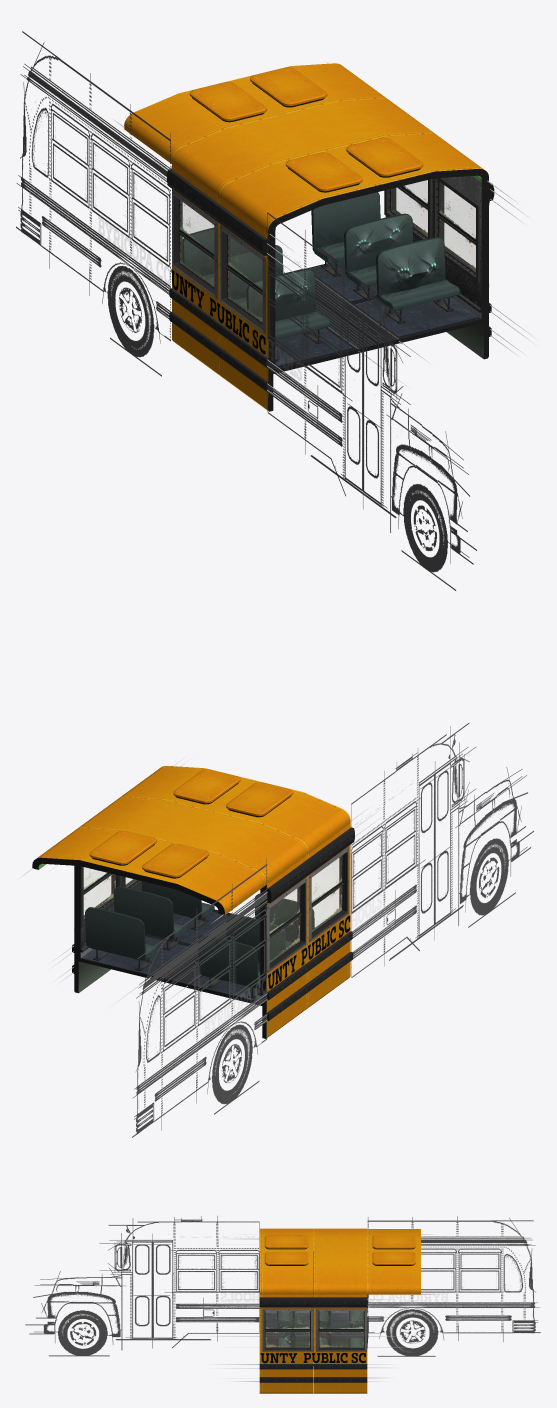
File: login.glb
3 views of the same model, one above another, from view 1: azimuth 30°, elevation 25°; view 2: azimuth 150°, elevation 25°; view 3: azimuth 270°, elevation 25° (orthographic). The views are drawn at different scales.
Parts seen in each view (by area): view 1: Bus_Wall4, Blueprint_Back4, Blueprint_Back3, Bus_Wall3, polySurface1 (×2), pCube10 (×2), pCube35, pCube5 (×3), pCube34, Chair7, Back_Hands_2:L_Hand4, Back_Hands_1:L_Hand3 (+8 smaller); view 2: Bus_Wall3, Blueprint_Back4, Blueprint_Back3, Bus_Wall4, pCube5 (×3), pCube10 (×2), pCube35, polySurface1 (×2), pCube34, pCube16, Window3, Window4 (+6 smaller); view 3: Blueprint_Back4, Blueprint_Back3, pCube9 (×2), pCube10 (×2), pCube34, Bus_Wall4, Bus_Wall3, Window, Window2, pCube35, Lettering5, pCube11 (+3 smaller).
Boxes of the visible parts, <box> form: Bus_Wall4: <box>215,150,378,411</box>; Blueprint_Back4: <box>267,212,476,590</box>; Blueprint_Back3: <box>16,31,170,376</box>; Bus_Wall3: <box>167,115,329,375</box>; polySurface1 (×2): <box>286,176,483,348</box>; pCube10 (×2): <box>283,98,488,191</box>; pCube35: <box>124,80,281,163</box>; pCube5 (×3): <box>182,192,380,299</box>; pCube34: <box>234,63,387,114</box>; Chair7: <box>246,268,330,344</box>; Back_Hands_2:L_Hand4: <box>378,238,445,295</box>; Back_Hands_1:L_Hand3: <box>346,215,412,271</box>; Bus_Wall3: <box>170,811,313,1038</box>; Blueprint_Back4: <box>351,723,533,977</box>; Blueprint_Back3: <box>132,858,267,1137</box>; Bus_Wall4: <box>212,780,354,1007</box>; pCube5 (×3): <box>85,907,286,988</box>; pCube10 (×2): <box>78,765,253,841</box>; pCube35: <box>128,841,266,915</box>; polySurface1 (×2): <box>78,866,237,983</box>; pCube34: <box>32,827,169,877</box>; pCube16: <box>113,886,174,939</box>; Window3: <box>311,855,342,933</box>; Window4: <box>269,886,300,963</box>; Blueprint_Back4: <box>25,1216,259,1356</box>; Blueprint_Back3: <box>367,1216,540,1356</box>; pCube9 (×2): <box>259,1294,367,1393</box>; pCube10 (×2): <box>259,1252,367,1294</box>; pCube34: <box>367,1252,420,1294</box>; Bus_Wall4: <box>259,1228,313,1340</box>; Bus_Wall3: <box>313,1228,367,1340</box>; Window: <box>318,1311,364,1348</box>; Window2: <box>264,1311,310,1348</box>; pCube35: <box>367,1229,420,1251</box>; Lettering5: <box>260,1352,365,1363</box>; pCube11: <box>264,1252,308,1265</box>.
Size of the model in its own units: 0.1456 by 0.1597 by 0.5162.
12 materials, 12 textured.
